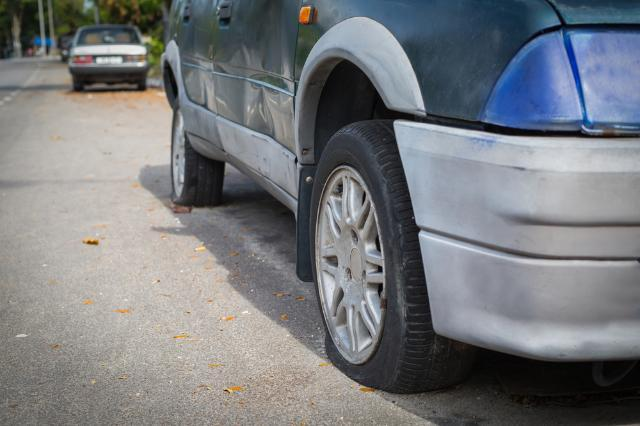dent: (235, 88, 295, 177)
tire flat: (311, 118, 478, 397), (171, 93, 226, 206)
